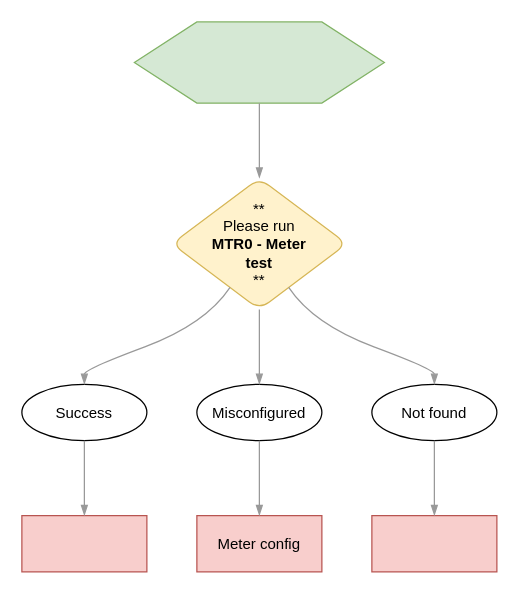
This 519x594 diagram has some shape labels left out. Each missing label, with the centre of its shape:
"KPI check" belongs at point (84, 543).
"METERS CHECKUP" belongs at point (258, 62).
"Open Service Call" belongs at point (434, 543).
